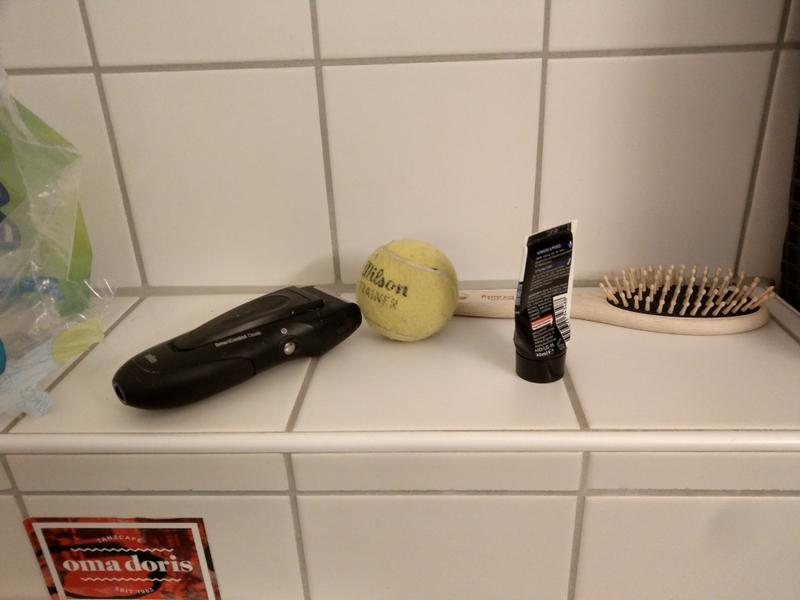Tennisball: (353, 236, 462, 345)
